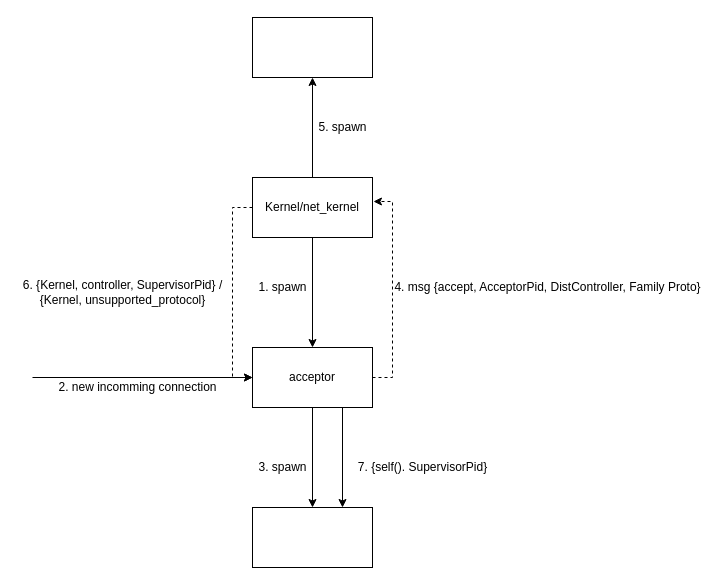
Some shapes in this 724 by 585 pixel diagram are drawn without their labels. Each missing label, with the box of its shape:
DistController: (252, 506, 372, 568)
Supervisor: (252, 16, 372, 78)
